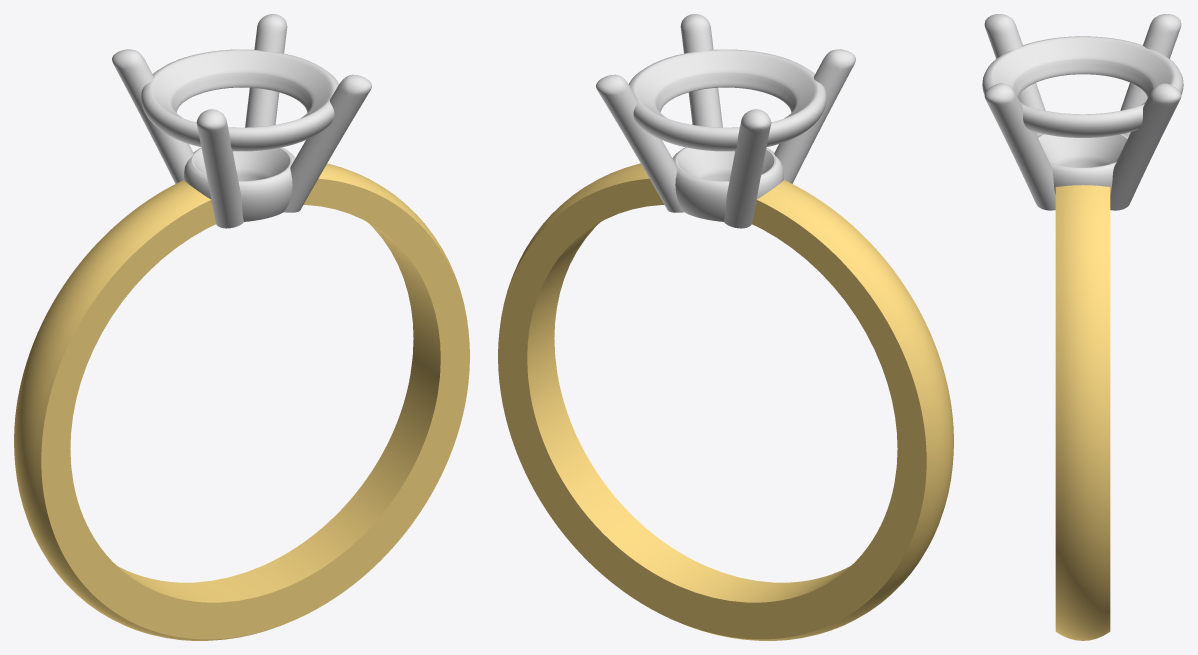
The model's file is MalloryPThead_blender.glb.
The picture shows the model from 3 angles, left to right: view 1: azimuth 30°, elevation 25°; view 2: azimuth 150°, elevation 25°; view 3: azimuth 270°, elevation 25°; orthographic projection.
Visible parts, largest first — view 1: Mallory YG for 3d model, Mallory PT head for 3d model; view 2: Mallory YG for 3d model, Mallory PT head for 3d model; view 3: Mallory YG for 3d model, Mallory PT head for 3d model.
Boxes of the visible parts, x1=… form: Mallory YG for 3d model: x1=14, y1=163, x2=469, y2=640; Mallory PT head for 3d model: x1=112, y1=14, x2=371, y2=228; Mallory YG for 3d model: x1=498, y1=163, x2=953, y2=640; Mallory PT head for 3d model: x1=596, y1=14, x2=855, y2=228; Mallory YG for 3d model: x1=1055, y1=185, x2=1110, y2=640; Mallory PT head for 3d model: x1=982, y1=14, x2=1183, y2=210.
Size of the model in its own units: 18.73 by 23 by 7.4.
